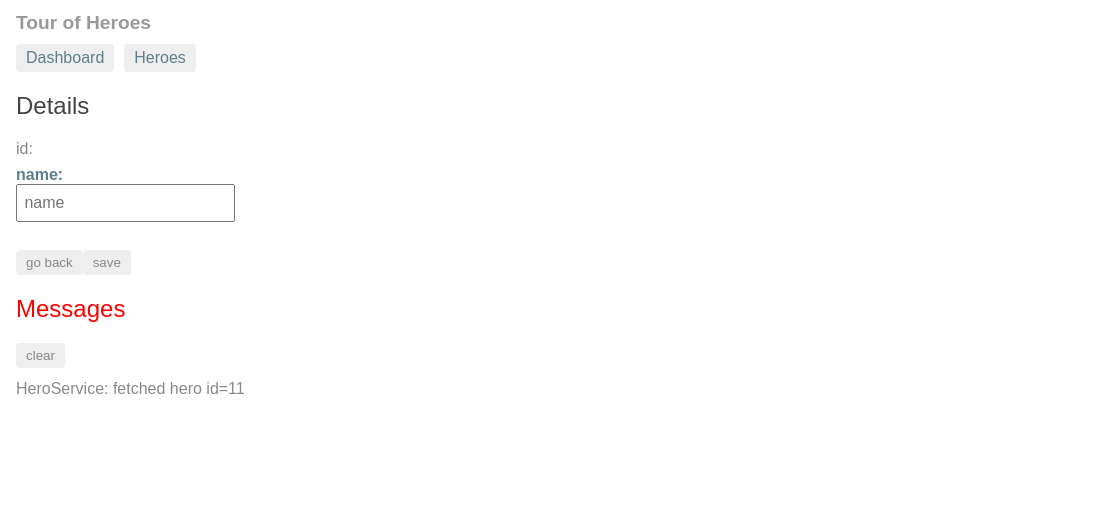
it: hero Details Page › can update a Hero's Name
The width and height of the screenshot is (1101, 510).
Type "Mr. Mean" into the field labelled "name:".
click(126, 203); type("Mr. Mean")  # box left=16, top=184, right=235, bottom=222
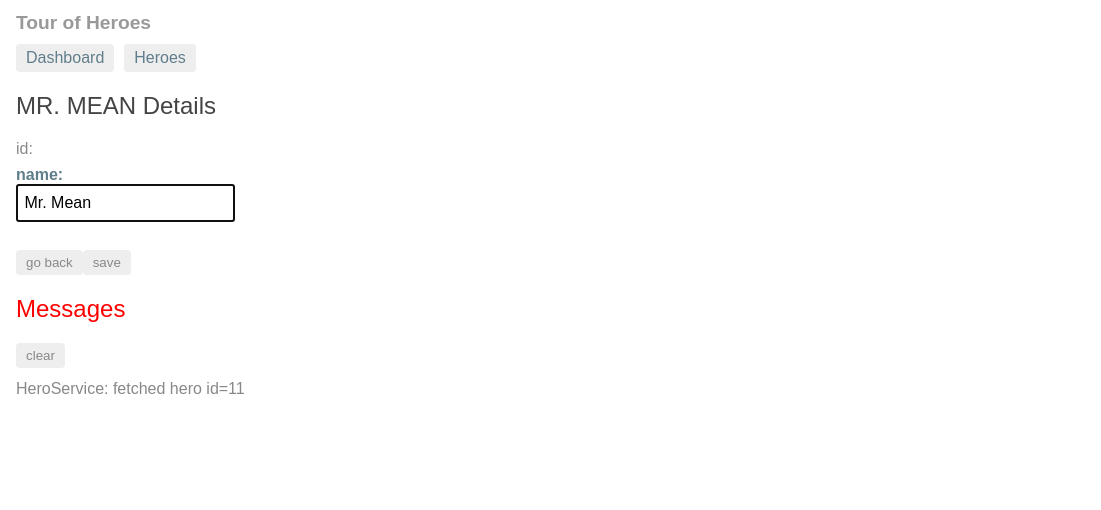
Click the button "save".
click(107, 263)  # box left=83, top=250, right=131, bottom=275
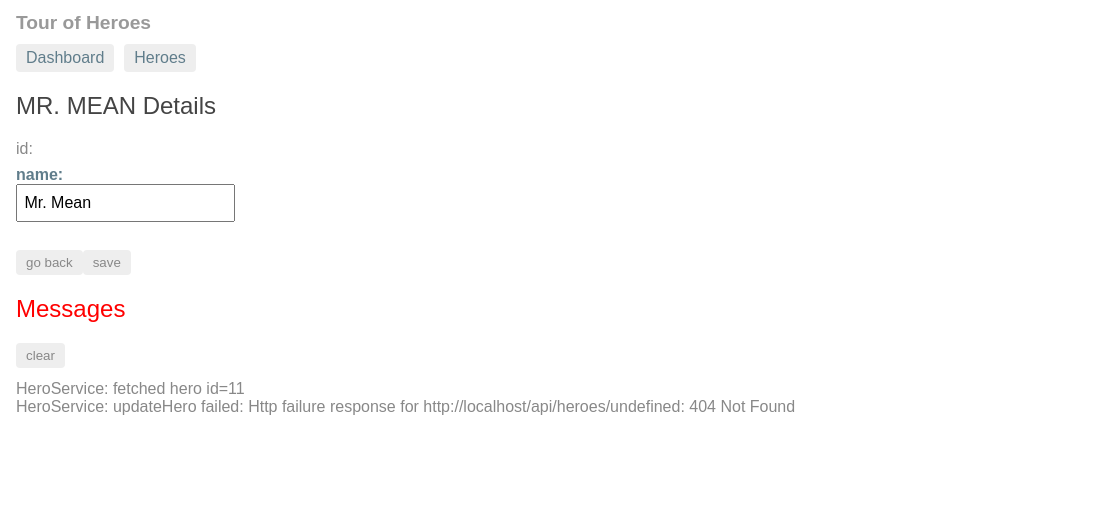
Open "dashboard"
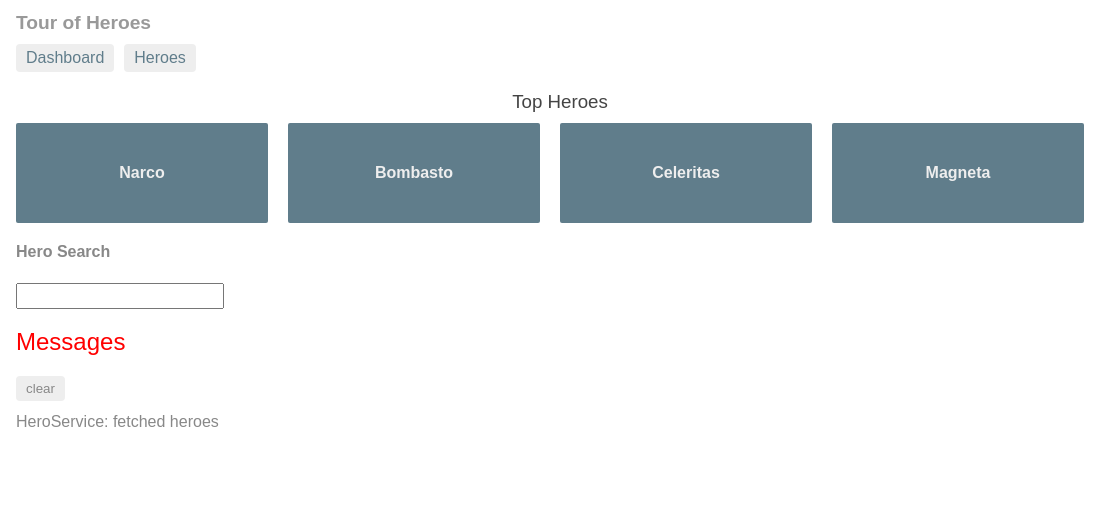
Type "Mean" into the field.
click(120, 296); type("Mean")  # box left=16, top=283, right=224, bottom=309
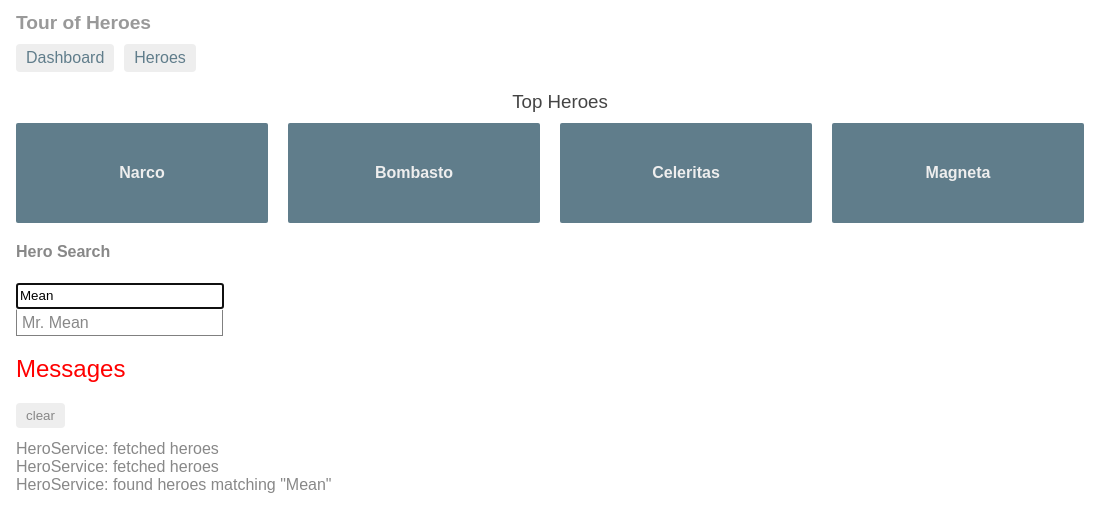
Now the number of list items is 1, box left=16, top=309, right=223, bottom=336
